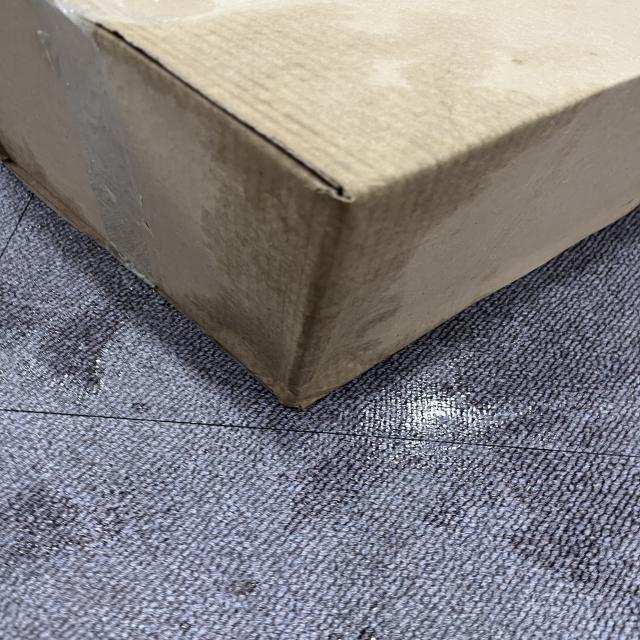wet: (184, 26, 523, 410)
